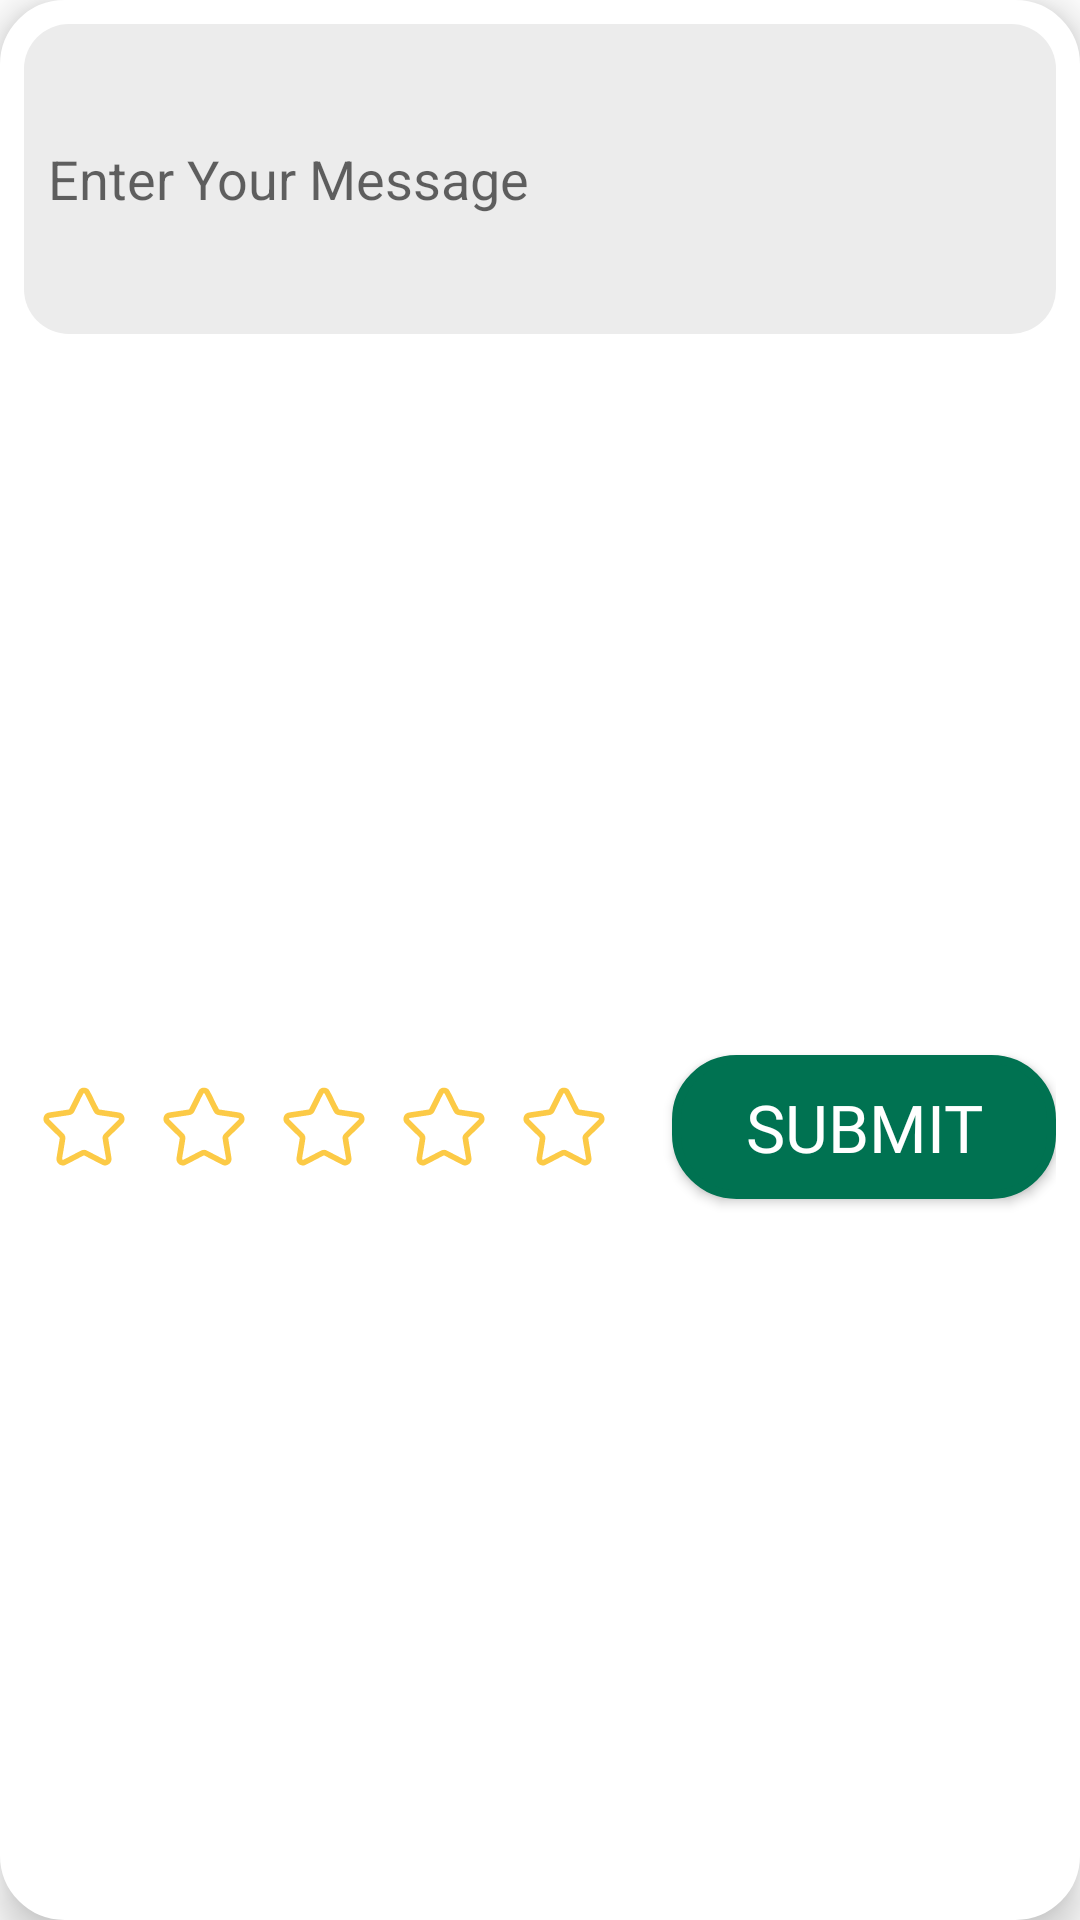

Icons on this 1080px×1920px Android screen, each with the point to tap as [x,y]:
empty star: [84,1126], [204,1126], [324,1126], [444,1126], [564,1126]
